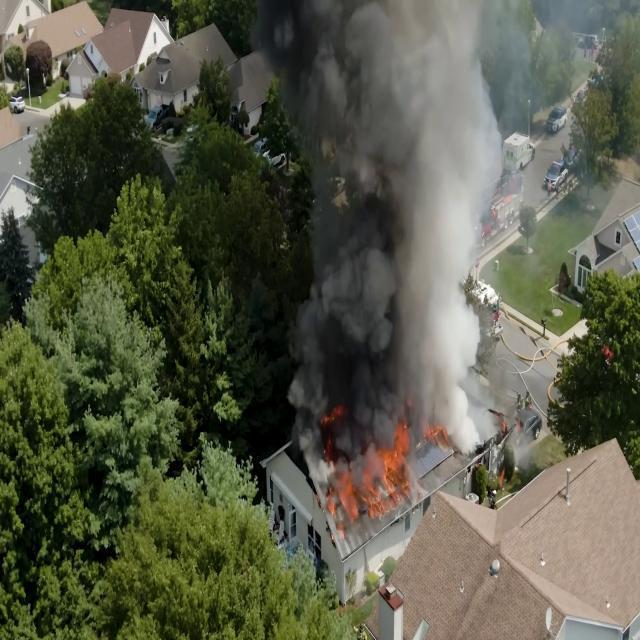Fire: (359, 420, 419, 520)
Smoke: (331, 25, 452, 384)
